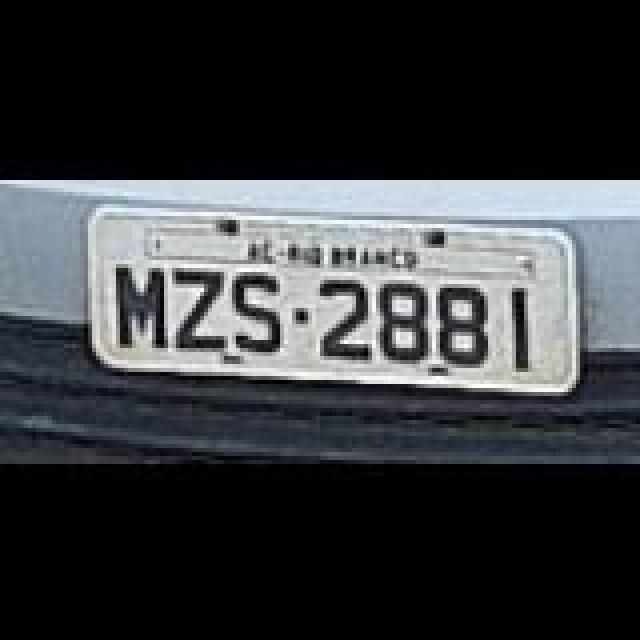1: (510, 286, 538, 370)
2: (322, 276, 374, 356)
8: (436, 284, 492, 364), (382, 280, 434, 360)
M: (116, 262, 172, 346)
S: (230, 272, 282, 352)
Z: (174, 266, 226, 350)
